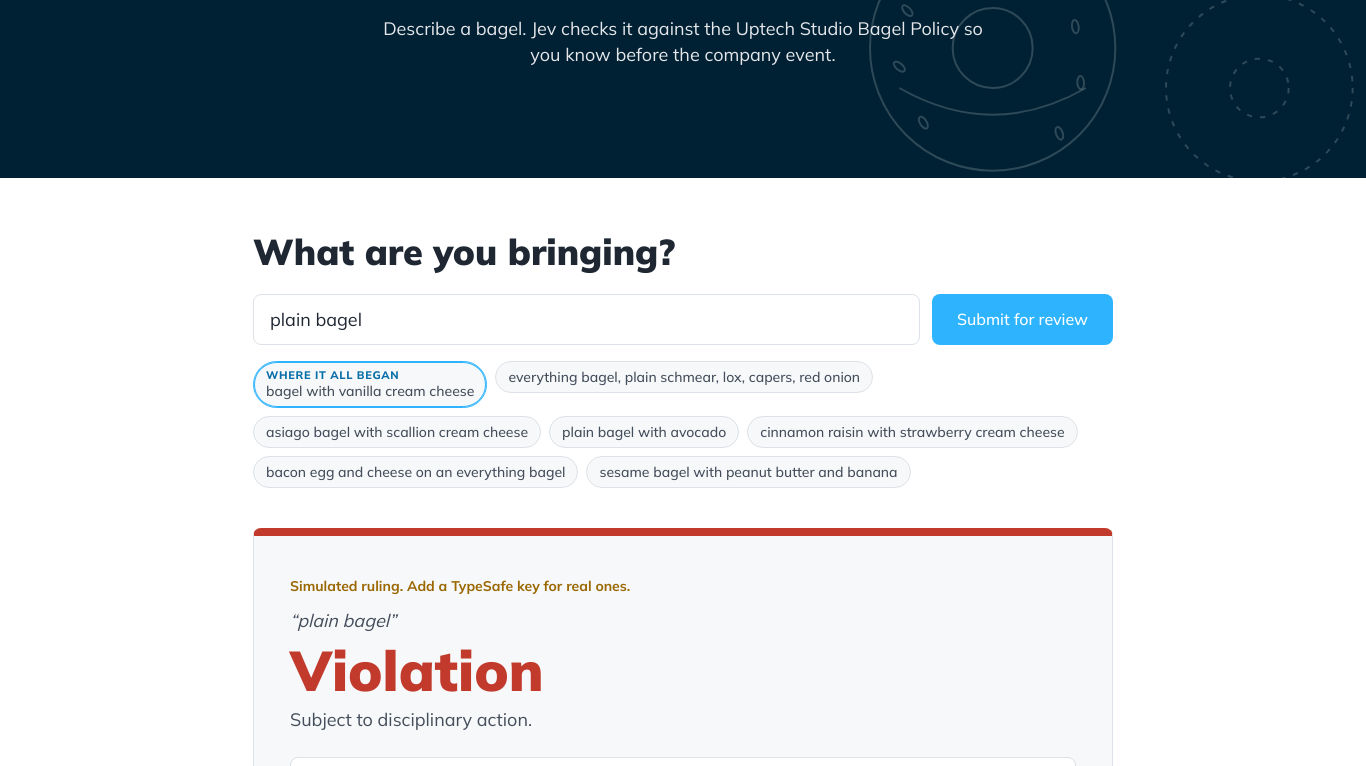
Test case: examples › fills in only the order, not the label
(page scrolled)
Click the button "Where it all began bagel with vanilla cream cheese".
click(370, 384)  # box [253,361,487,408]
(page scrolled)
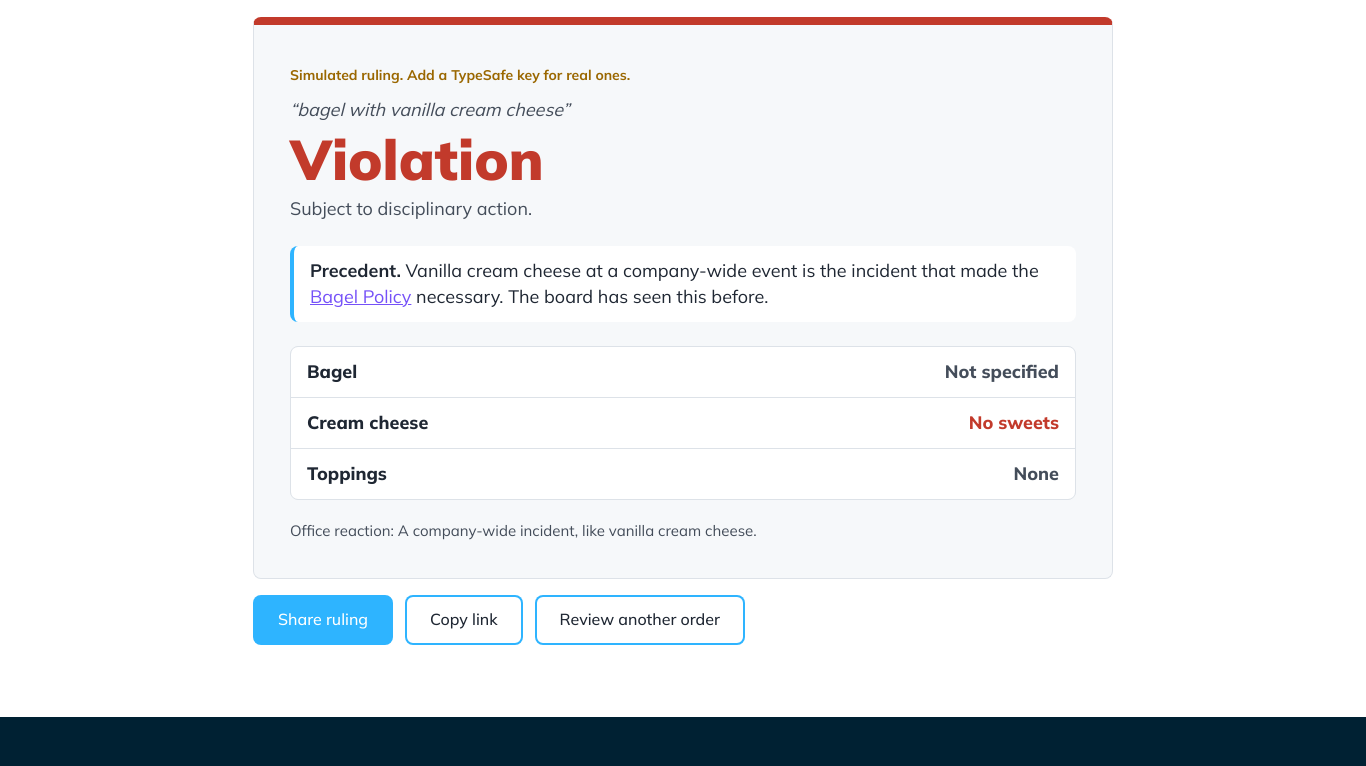
Expected: the text "Precedent." is shown, [310,259,401,282]
